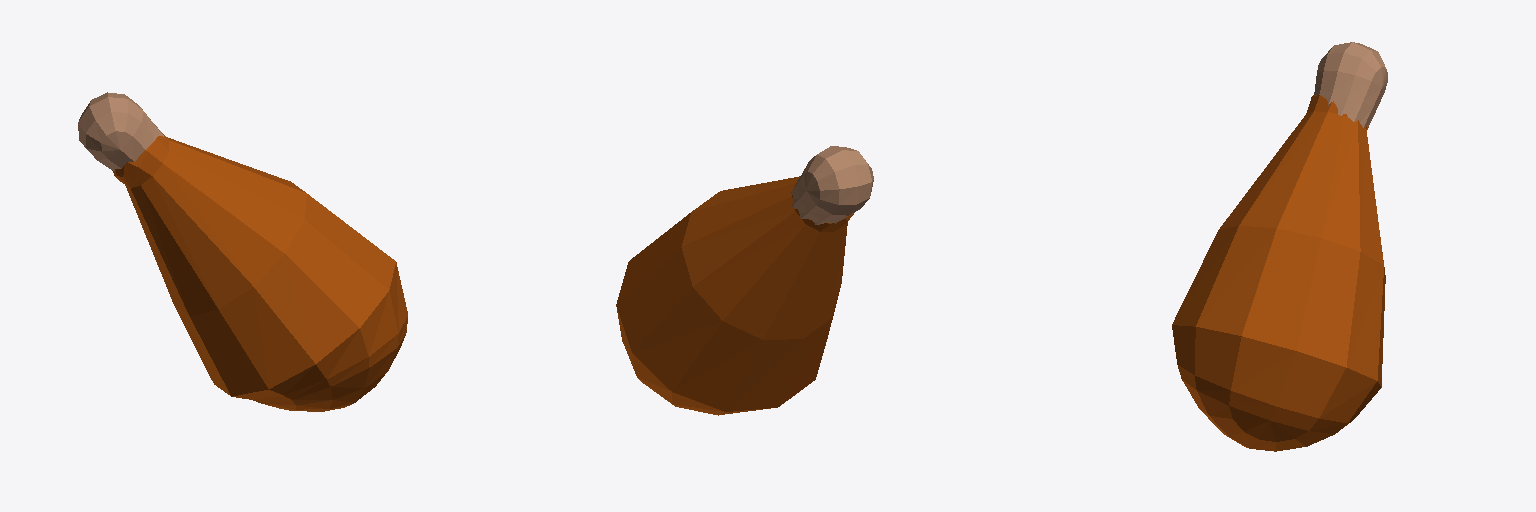
Rendered from chicken_leg_01.obj.
3 views of the same model, side by side, from view 1: azimuth 30°, elevation 25°; view 2: azimuth 150°, elevation 25°; view 3: azimuth 270°, elevation 25° (orthographic).
Visible parts, largest first — view 1: i0000.72279, i0001.50346; view 2: i0000.72279, i0001.50346; view 3: i0000.72279, i0001.50346.
Boxes of the visible parts, <box> form: i0000.72279: <box>112,133,407,411</box>; i0001.50346: <box>78,92,163,170</box>; i0000.72279: <box>616,176,853,415</box>; i0001.50346: <box>791,146,873,224</box>; i0000.72279: <box>1172,95,1385,451</box>; i0001.50346: <box>1314,42,1387,129</box>.
Bounding box in the file's own units: 0.3421 × 0.3795 × 0.2332.